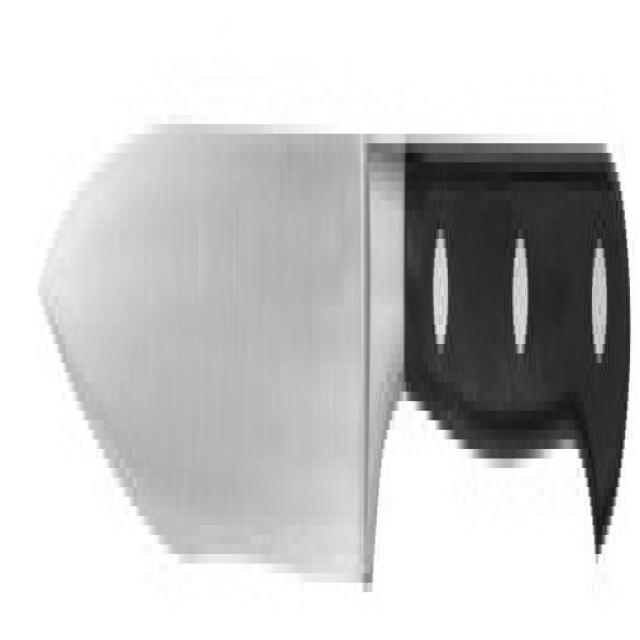knife: (29, 10, 640, 640)
